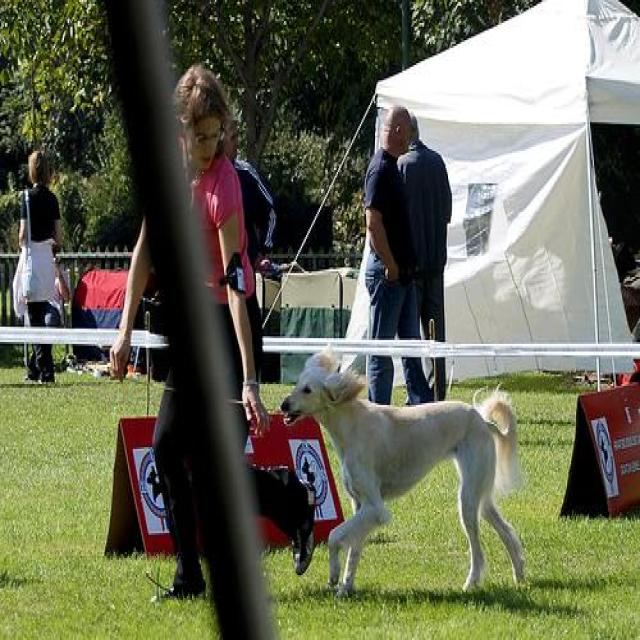saluki: (280, 351, 528, 598)
